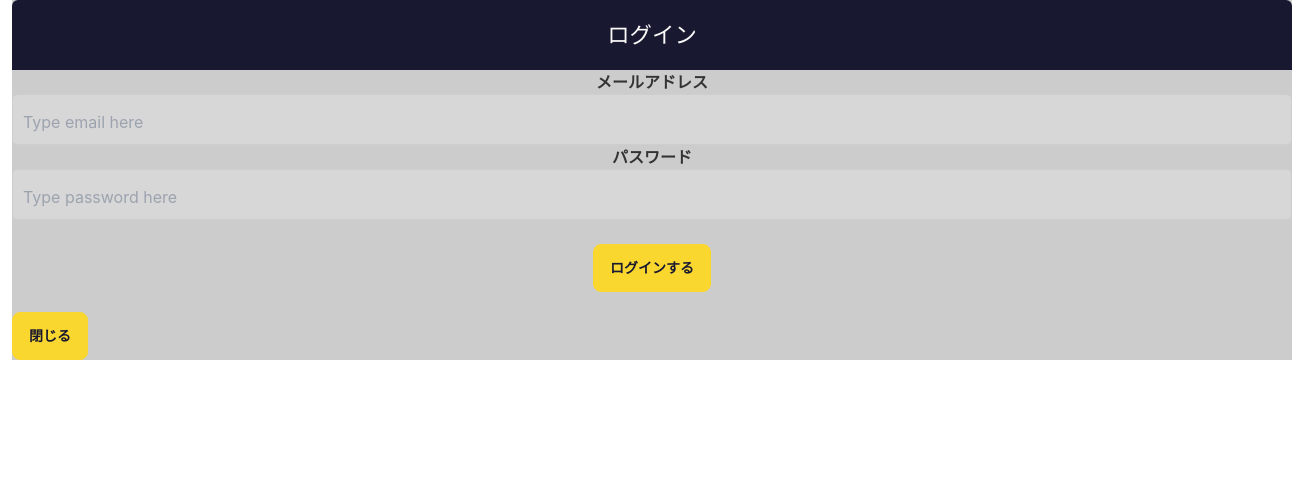
it: SignIn email › メールアドレスの形式が不正の場合、エラーメッセージを表示
Type "xxxx1111" into the field with placeholder "Type email here". click: (652, 119)
box: top-left (12, 94), bottom-right (1292, 145)
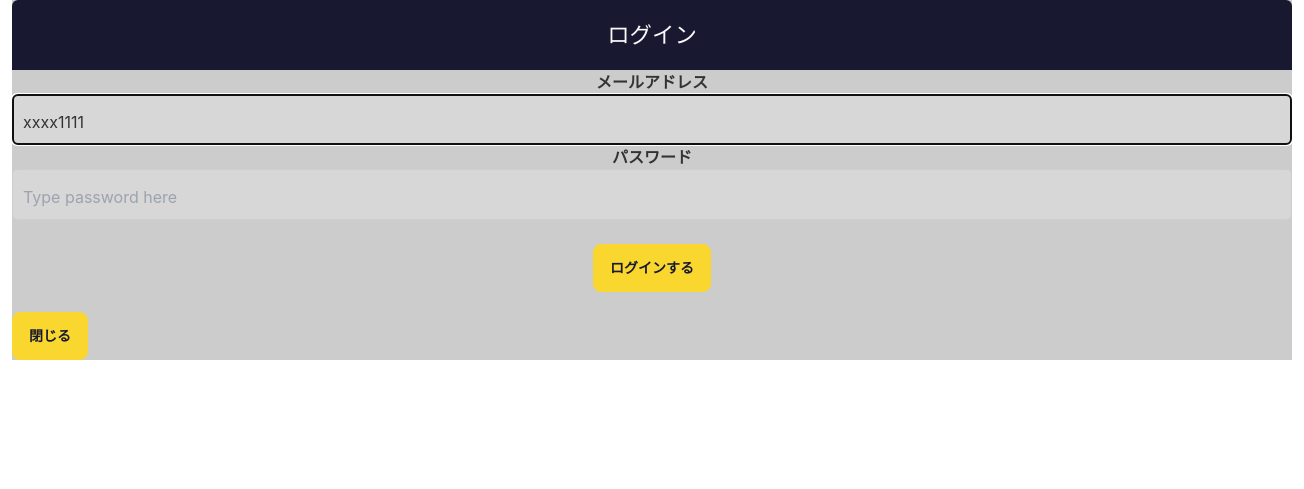
Click the button "ログインする". click: (652, 268)
box: top-left (593, 244), bottom-right (711, 292)
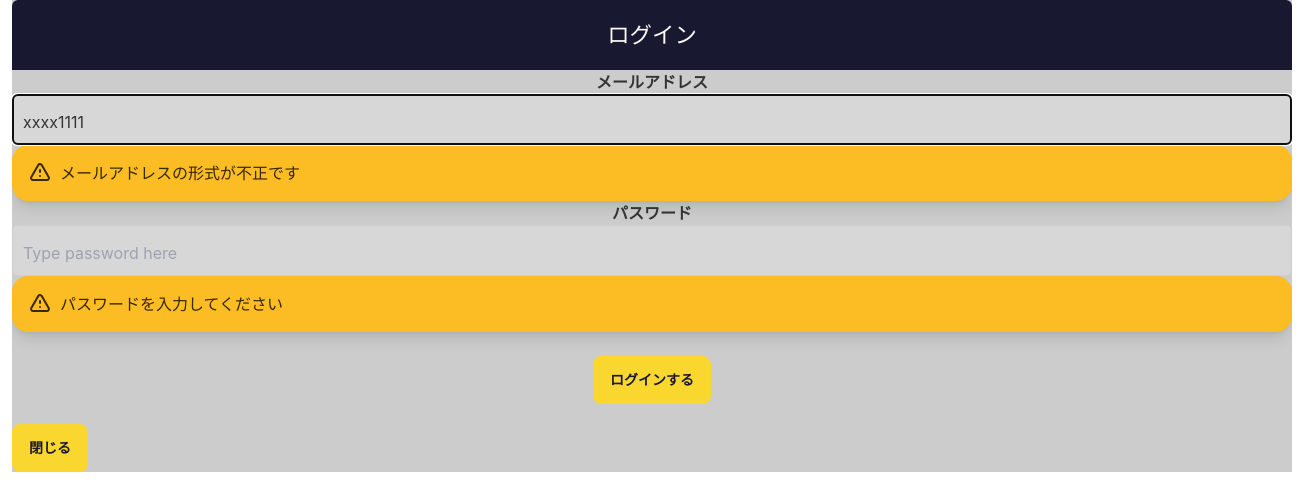
Now the text "メールアドレスの形式が不正です" is shown, box top-left (60, 161), bottom-right (300, 185)
